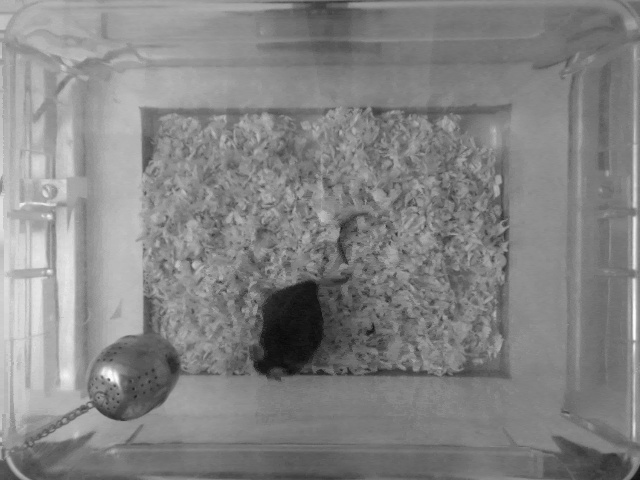mice: (250, 208, 368, 384)
